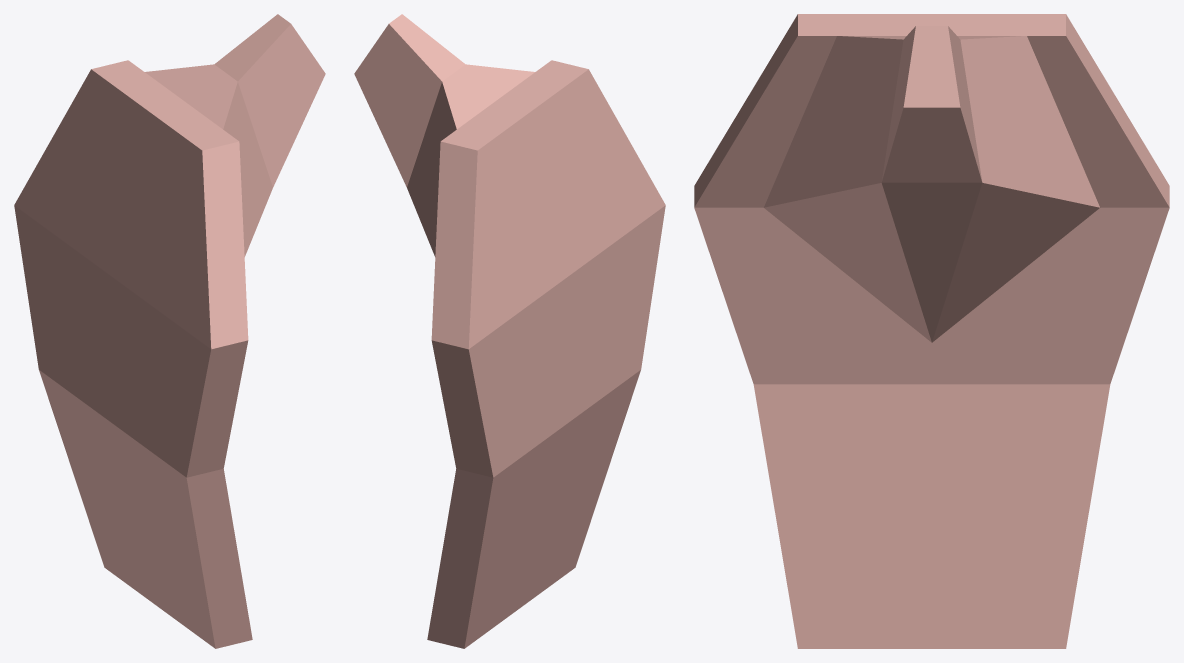
The model's file is cb_back_skirt_2.gltf.
The picture shows the model from 3 angles, left to right: view 1: azimuth 30°, elevation 25°; view 2: azimuth 150°, elevation 25°; view 3: azimuth 270°, elevation 25°; orthographic projection. The views are drawn at different scales.
Parts seen in each view (by area): view 1: Cube.004; view 2: Cube.004; view 3: Cube.004.
Boxes of the visible parts, x1,y1,x2,y2 form: Cube.004: [14, 14, 325, 648]; Cube.004: [354, 14, 665, 648]; Cube.004: [694, 14, 1169, 648].
Bounding box in the file's own units: 1.21 × 3.22 × 2.06.
